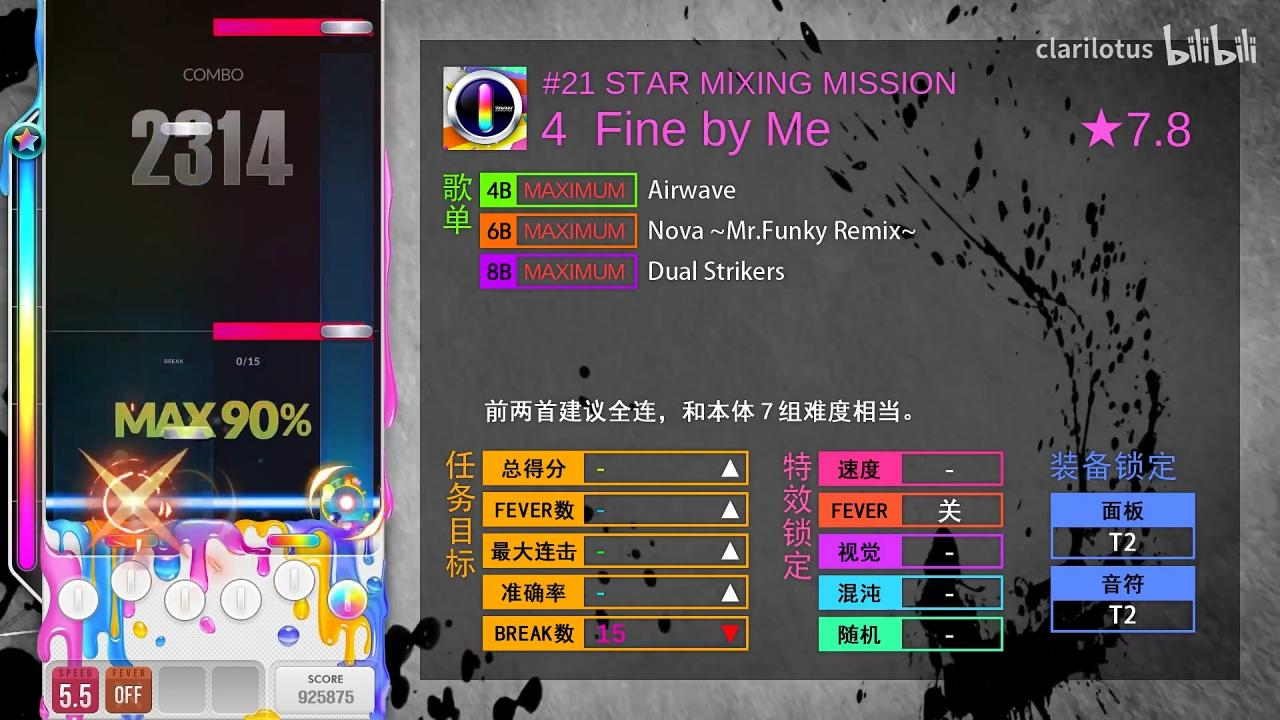note: (320, 323, 374, 339), (319, 19, 373, 34), (161, 427, 214, 440)
xnote: (214, 18, 374, 36), (213, 322, 373, 340)
